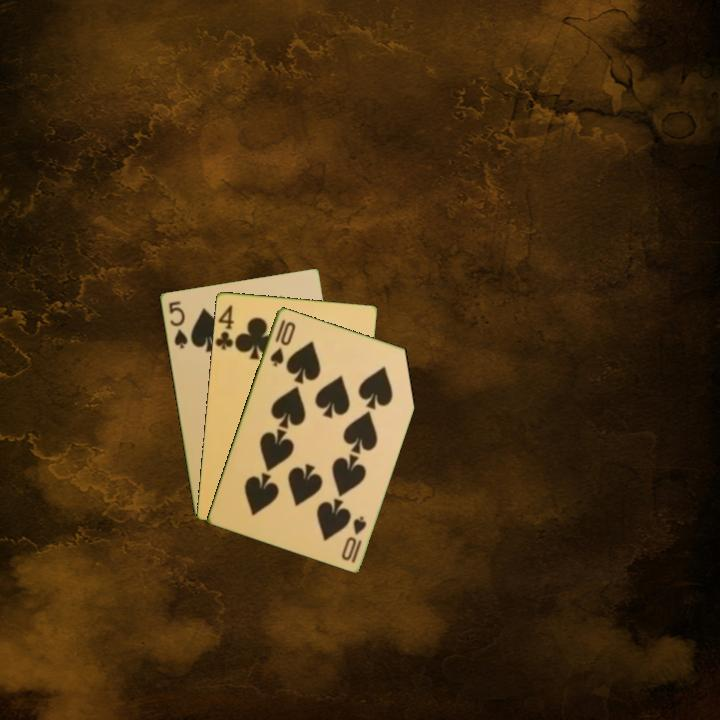10s: (266, 315, 298, 369), (338, 512, 369, 565)
4c: (213, 301, 237, 352)
5s: (165, 297, 190, 351)
